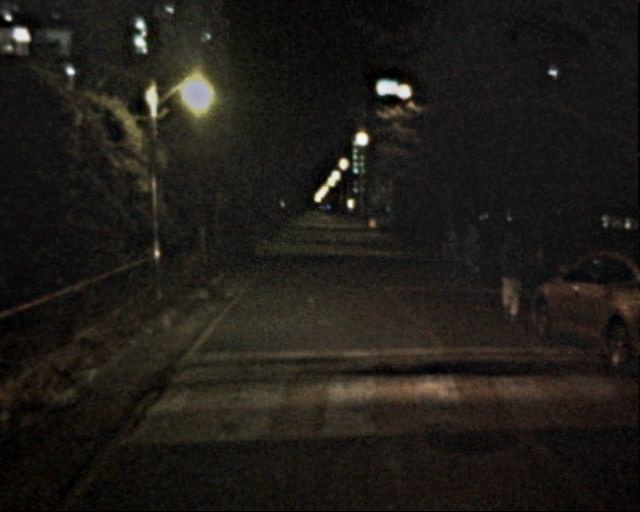person: (492, 227, 531, 322), (458, 220, 494, 297), (439, 227, 472, 295)
